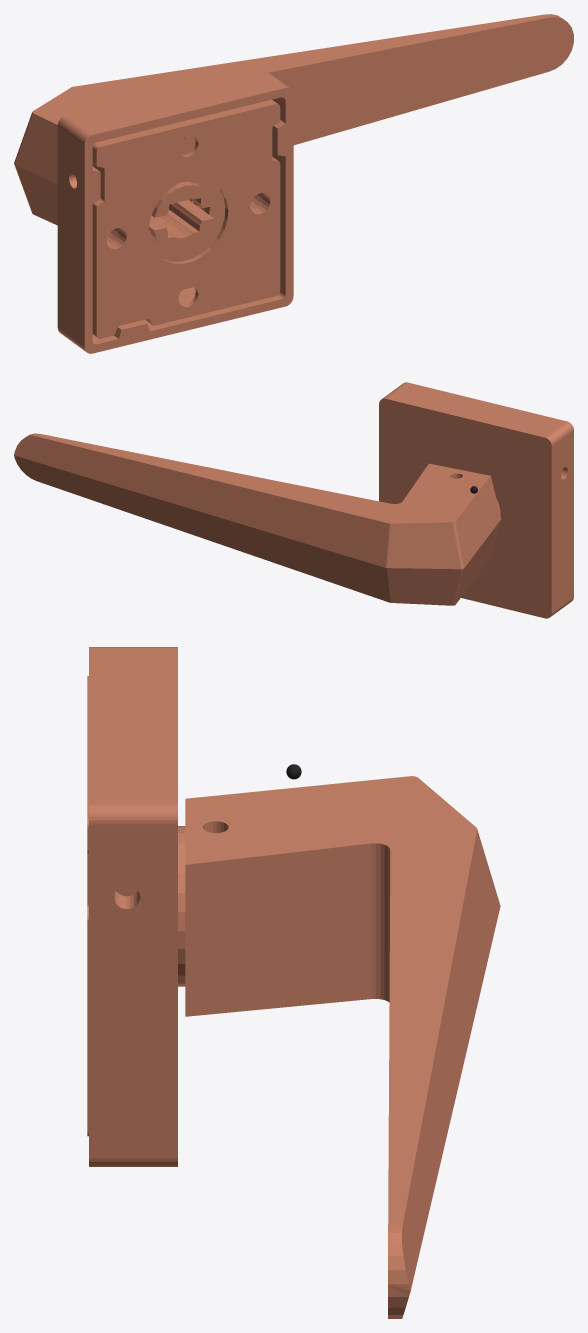
File: jupiter pvd r gold.glb
3 renders of one model, top to bottom at view 1: azimuth 30°, elevation 25°; view 2: azimuth 150°, elevation 25°; view 3: azimuth 270°, elevation 25°, orthographic. The views are drawn at different scales.
Visible parts, largest first — view 1: JUPITER; view 2: JUPITER; view 3: JUPITER.
Boxes of the visible parts, x1,y1,x2,y2 form: JUPITER: (14, 14, 573, 353); JUPITER: (14, 382, 573, 618); JUPITER: (87, 647, 500, 1318).
Size of the model in its own units: 0.9384 by 0.338 by 0.35.
